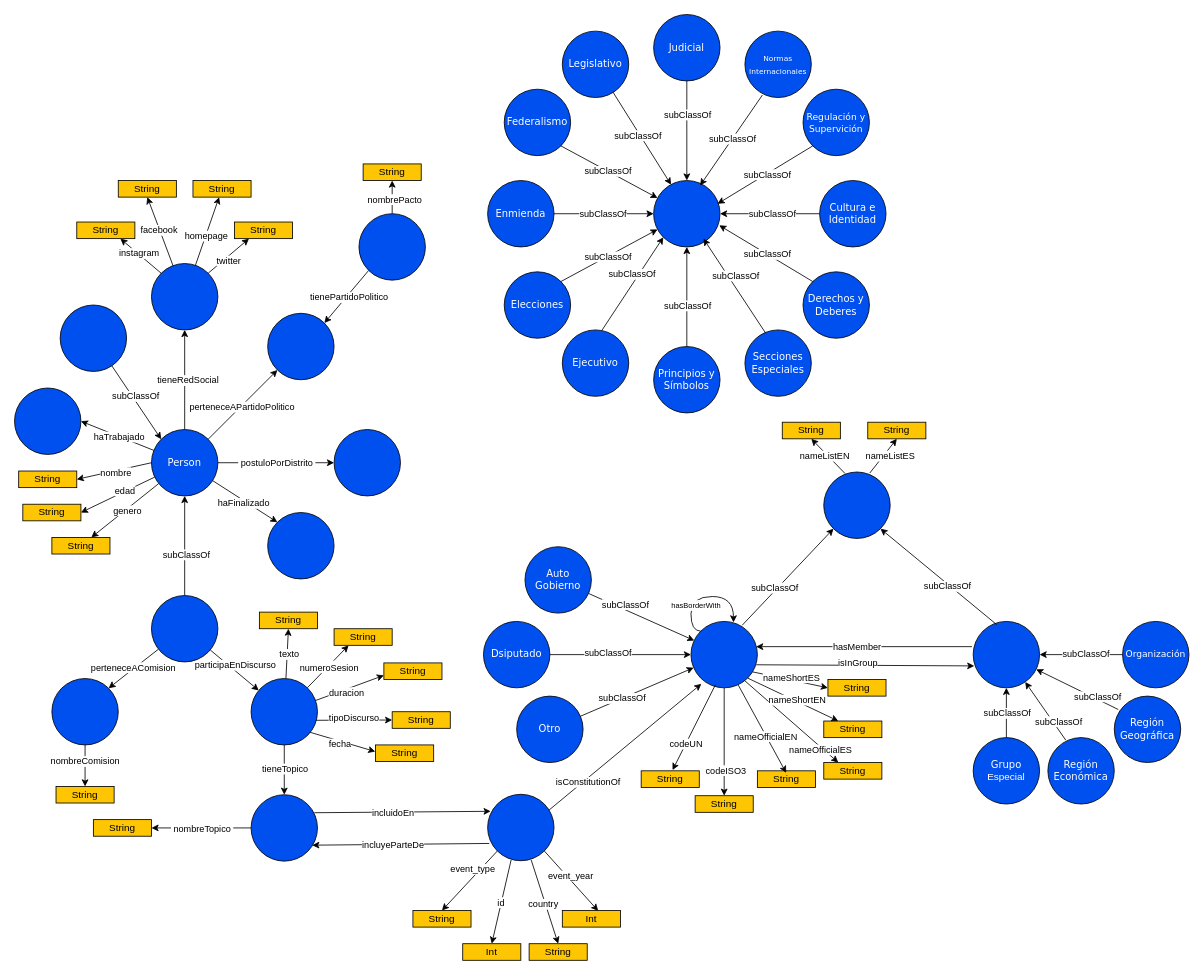
Image size: 1204x975. Some labels were removed from this diagram. The shapes that lost their labels are listed below. From the top down, each one's centre as x and y in pixels, then its label:
(x=686, y=213): Topics
(x=391, y=246): Pacto
(x=184, y=296): RedSocial
(x=93, y=337): Candidato
(x=300, y=346): PartidoPolitico
(x=47, y=420): Cargo
(x=366, y=462): Distrito
(x=856, y=504): Lugar
(x=300, y=545): Profesion
(x=184, y=628): Constituyente
(x=723, y=654): Territorio
(x=1006, y=654): Grupo
(x=84, y=711): Comision
(x=283, y=711): Discurso
(x=283, y=827): Topico
(x=520, y=827): Event
